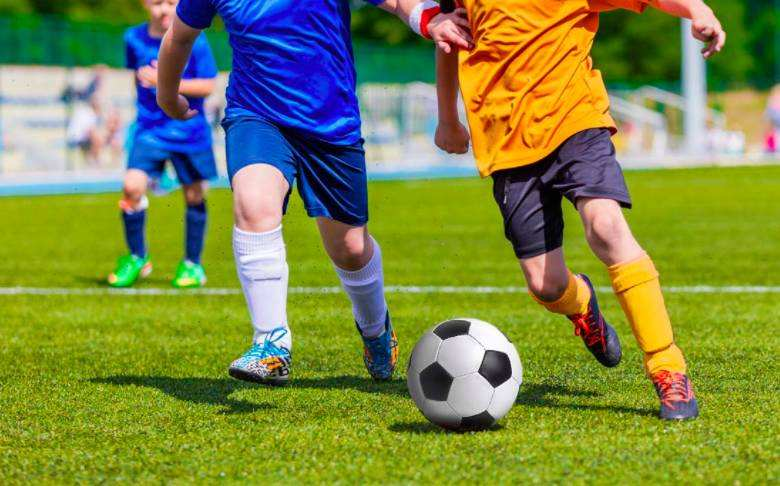football: (406, 319, 525, 433)
